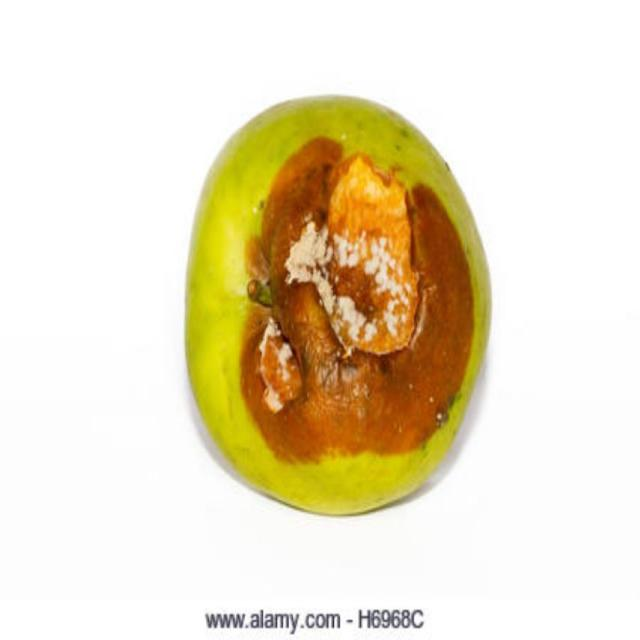Rotten Apple: (179, 78, 491, 529)
